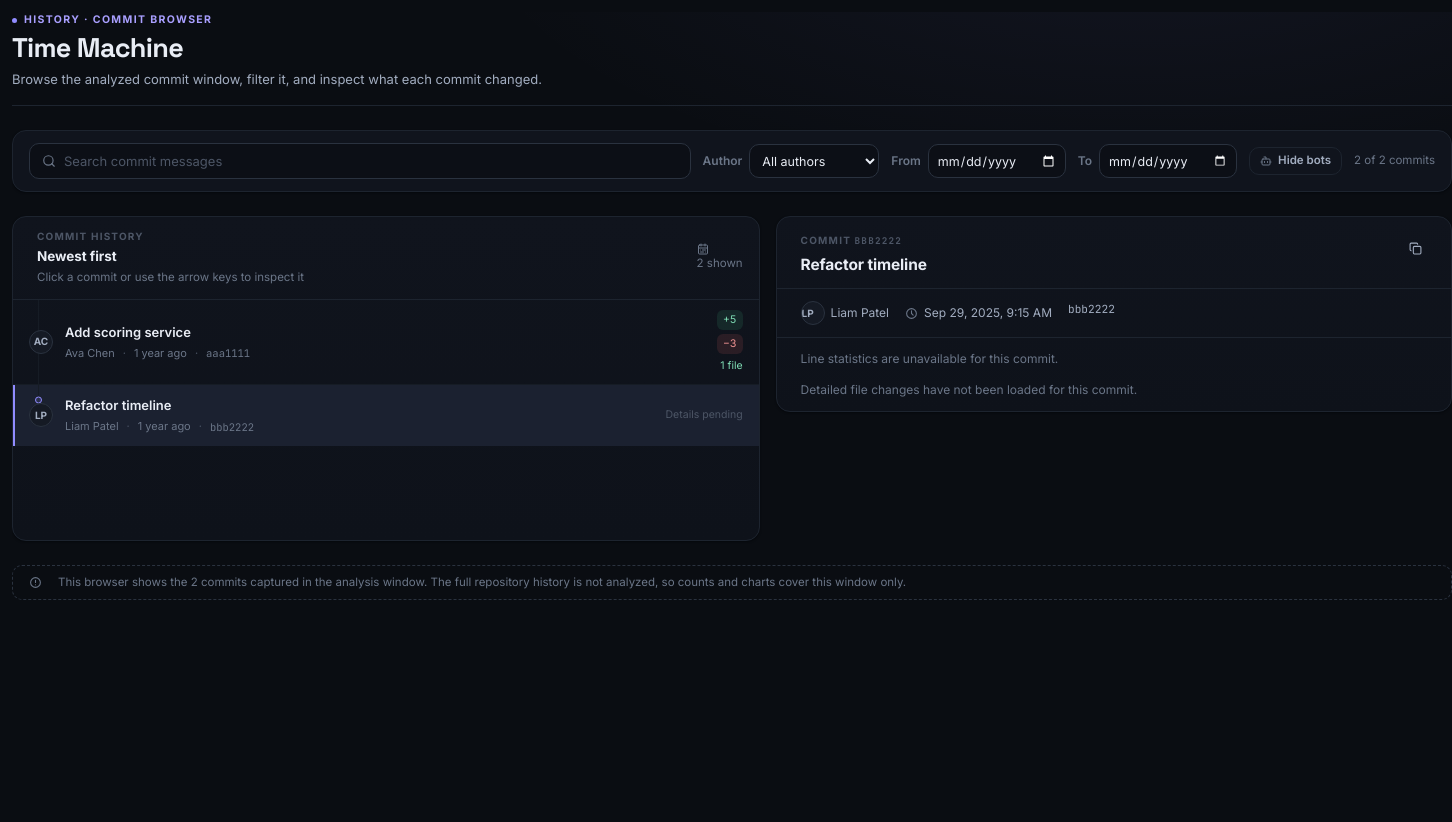
Test: TimeMachinePage › filters the commit list by message search
Type "timeline" into the search field named "Search commits by message" at coordinates (371, 161), box top-left (64, 144), bottom-right (678, 178)
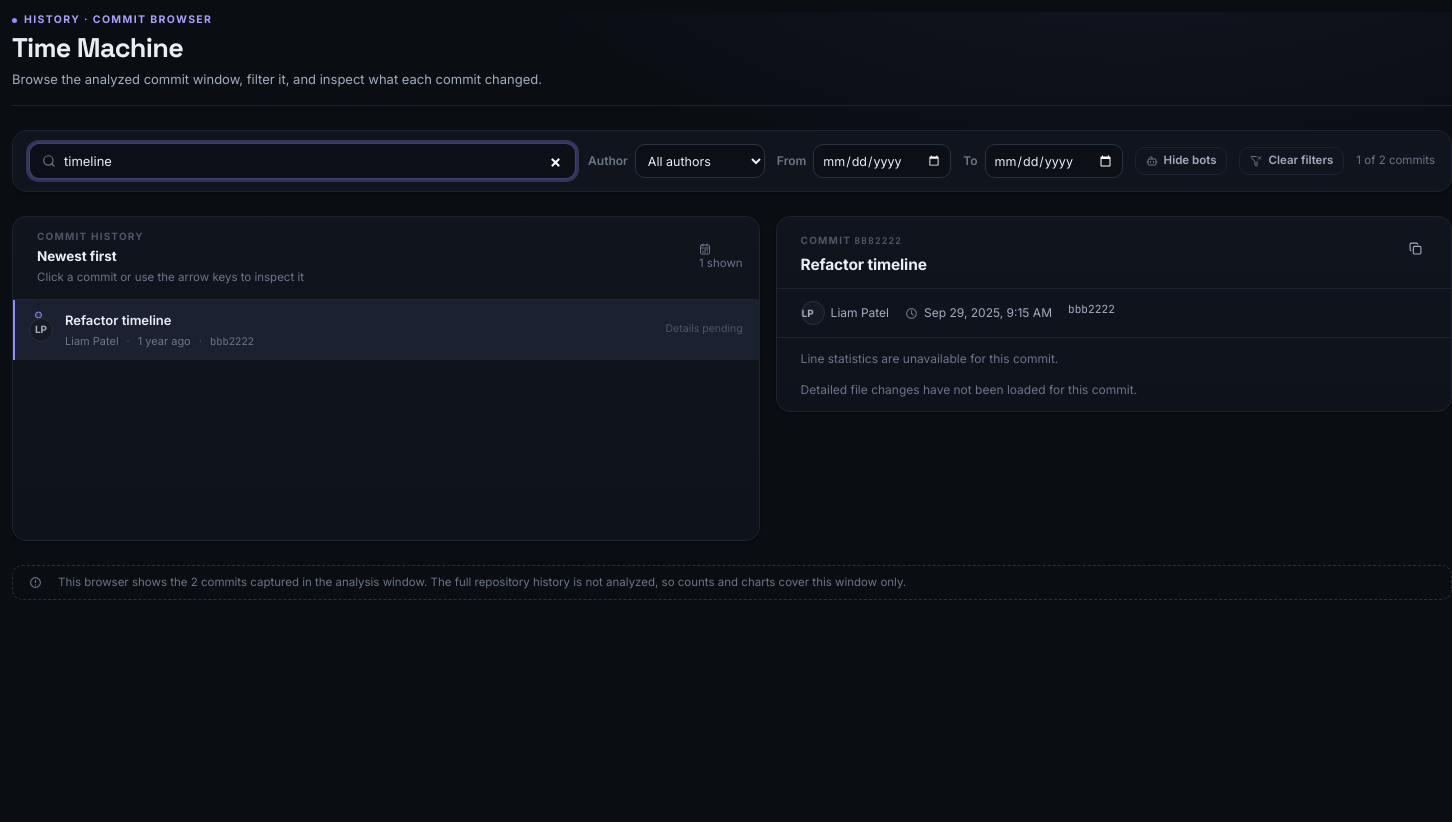
Expected: the button "Refactor timeline" is shown, top-left (13, 300), bottom-right (759, 360)
Now the text "1 of 2 commits" is shown, box top-left (1356, 152), bottom-right (1435, 170)
Now the button "Add scoring service" is gone
